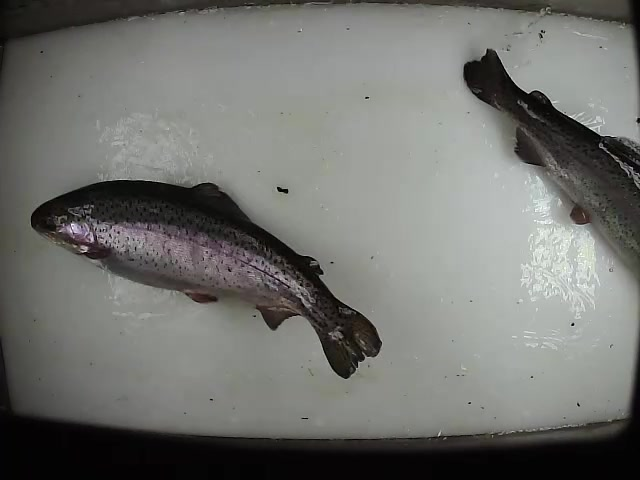fish: (27, 177, 385, 380), (459, 44, 640, 277)
